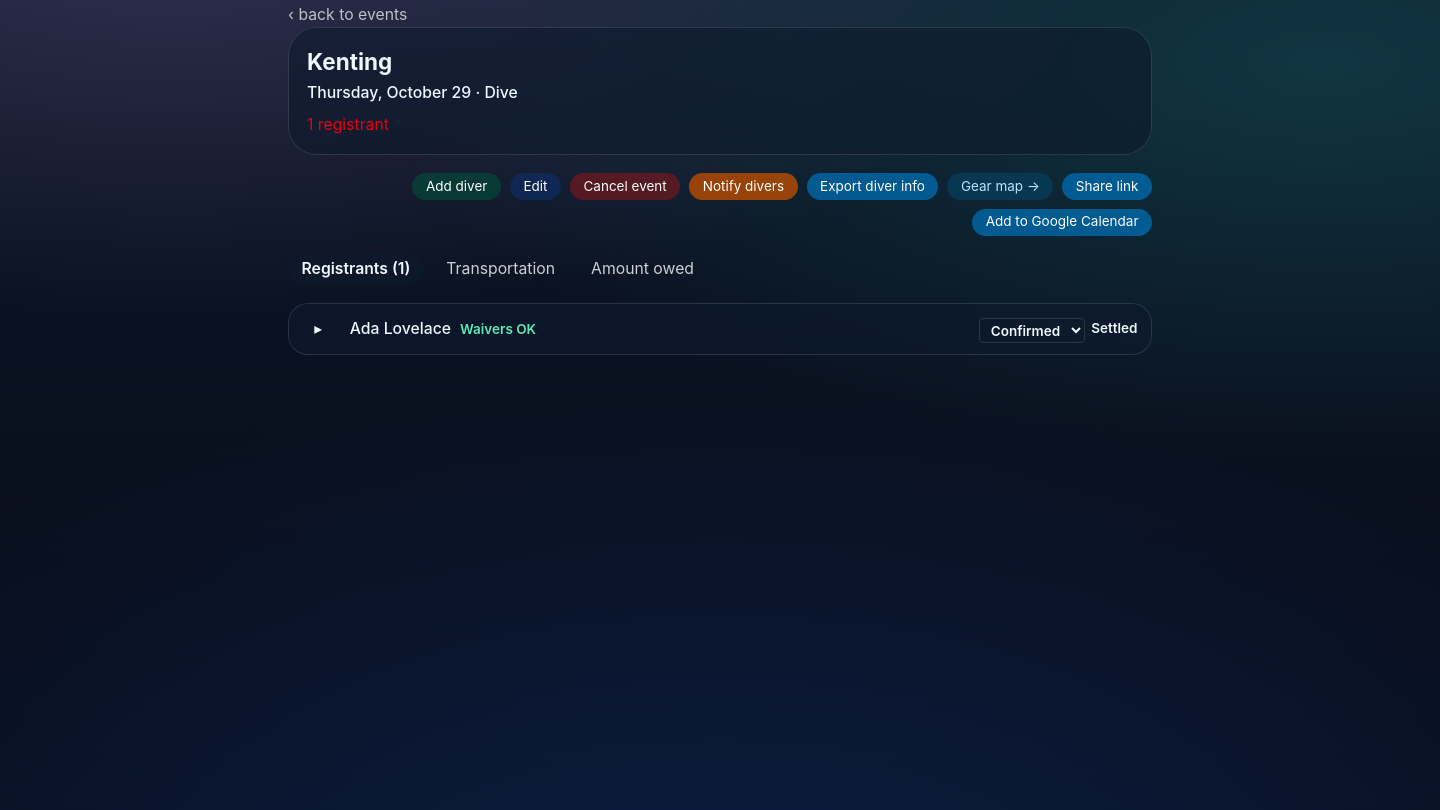
it: AdminEventDetailPage › renders compact diver cards and expands to show add-ons by display_title
The width and height of the screenshot is (1440, 810).
expect the text "Ada Lovelace" is shown: met, box [350,319,451,338]
expect the text "PADI AOW · Nitrox" is not shown: met
# Expand the card by clicking it.
Click the button named "Ada Lovelace" at [318, 329], box [294,304,343,354]
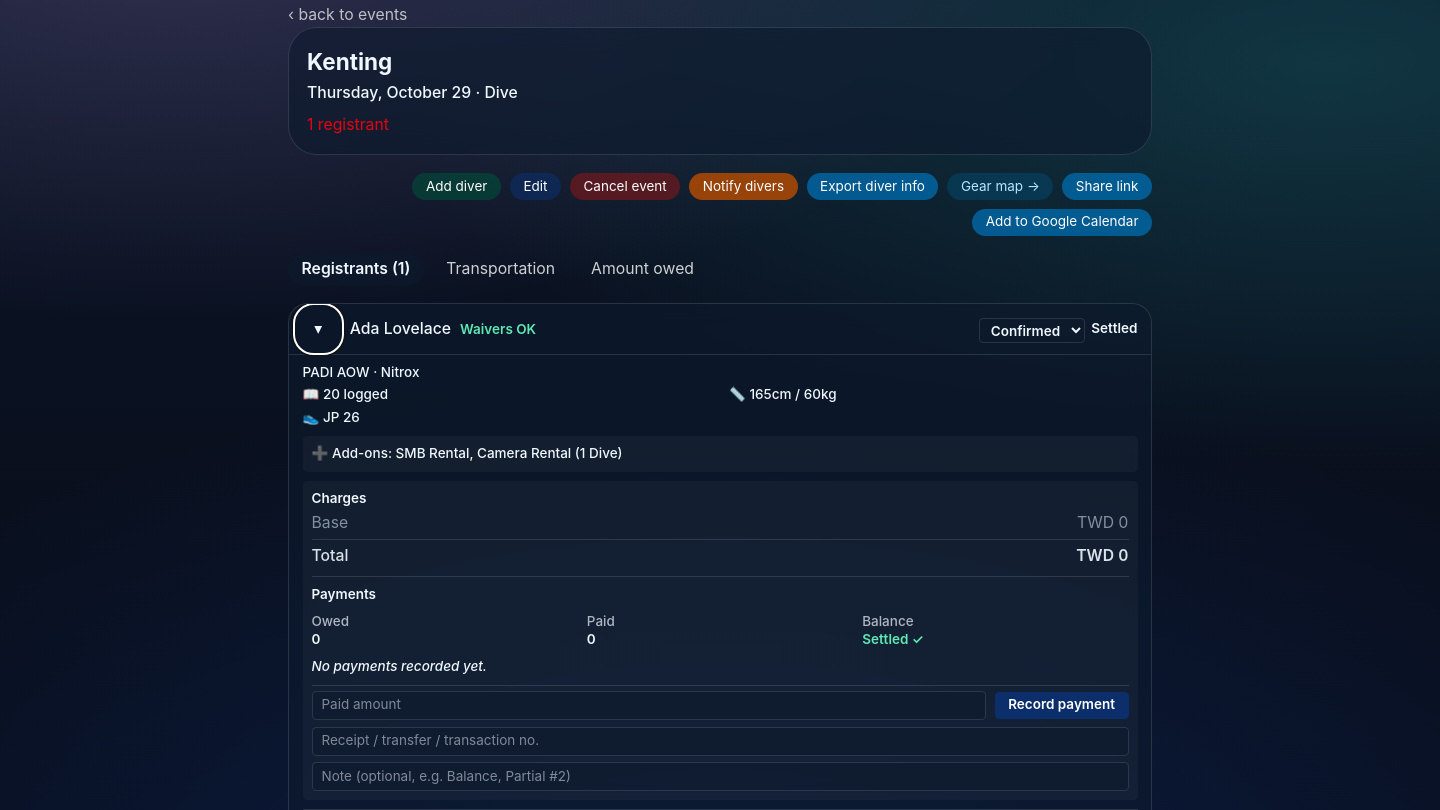
expect the text "PADI AOW · Nitrox" is shown: met, box [302,364,419,380]
expect the text "➕ Add-ons: SMB Rental, Camera Rental (1 Dive)" is shown: met, box [312,445,623,461]
expect the text "👟 JP 26" is shown: met, box [302,409,360,425]
